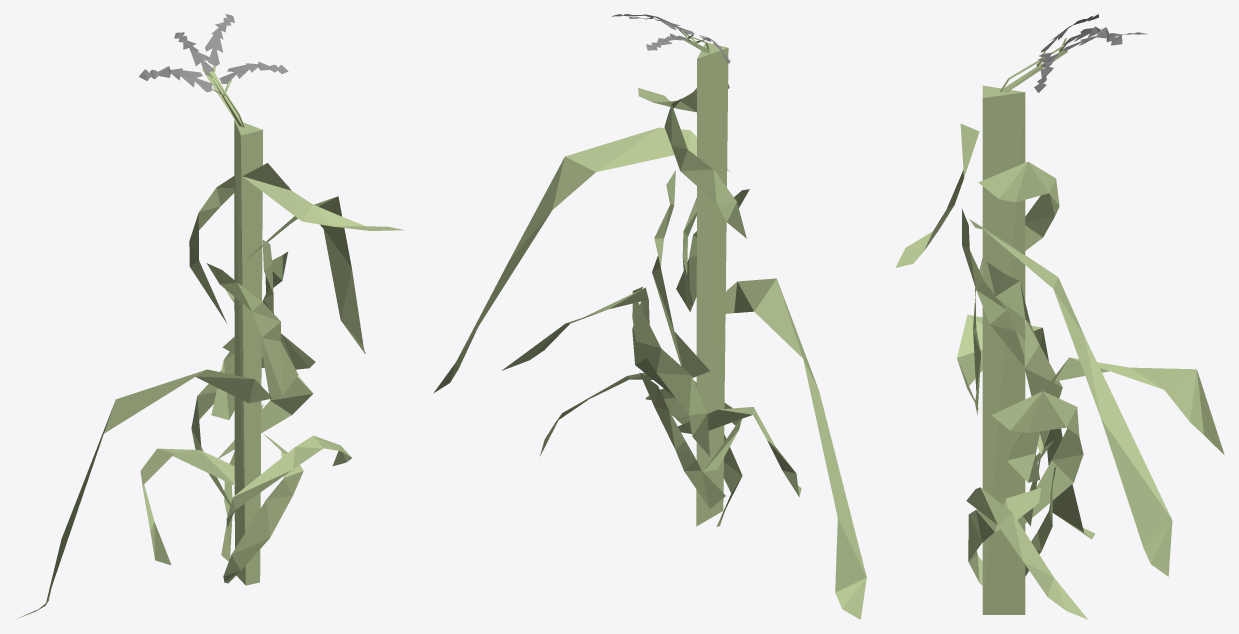
The model's file is Corn_7.fbx.
The picture shows the model from 3 angles, left to right: view 1: azimuth 30°, elevation 25°; view 2: azimuth 150°, elevation 25°; view 3: azimuth 270°, elevation 25°; orthographic projection. The views are drawn at different scales.
Parts seen in each view (by area): view 1: Corn_7; view 2: Corn_7; view 3: Corn_7.
Boxes of the visible parts, x1,y1,x2,y2 form: Corn_7: (17,14,404,618); Corn_7: (433,14,866,619); Corn_7: (895,14,1224,619).
Size of the model in its own units: 157 by 212 by 101.
